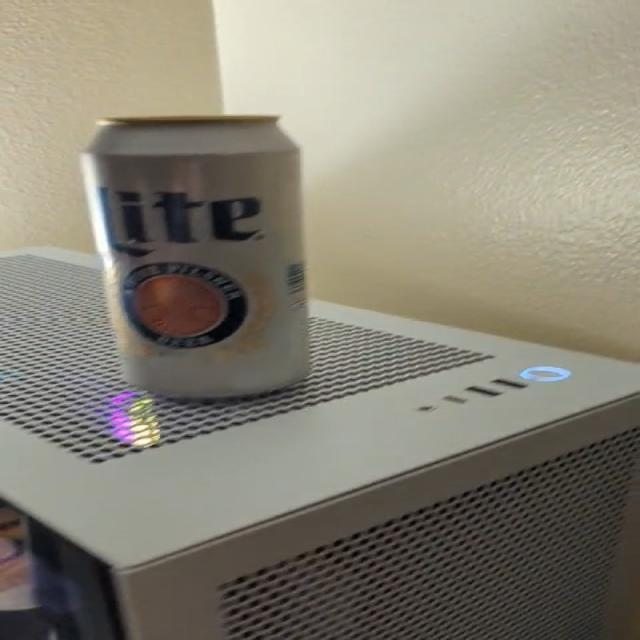metal: (84, 109, 324, 401)
